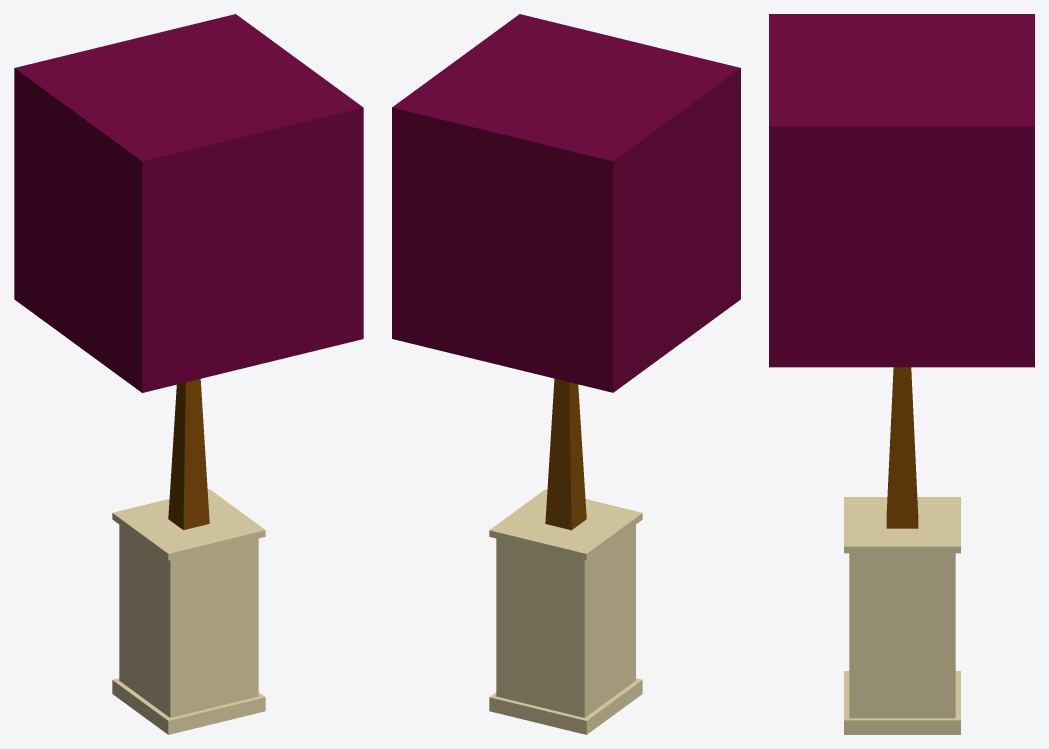
The model's file is Tree04.fbx.
3 renders of one model, left to right at view 1: azimuth 30°, elevation 25°; view 2: azimuth 150°, elevation 25°; view 3: azimuth 270°, elevation 25°, orthographic. The views are drawn at different scales.
Visible parts, largest first — view 1: hp_tree04_leaves2, hp_tree04_base; view 2: hp_tree04_leaves2, hp_tree04_base; view 3: hp_tree04_leaves2, hp_tree04_base.
Part boxes in pixels (<box>): hp_tree04_leaves2: <box>14,14,363,530</box>; hp_tree04_base: <box>112,489,265,734</box>; hp_tree04_leaves2: <box>392,14,740,530</box>; hp_tree04_base: <box>489,489,642,734</box>; hp_tree04_leaves2: <box>769,14,1034,528</box>; hp_tree04_base: <box>844,497,960,734</box>.
Bounding box in the file's own units: 100 × 266 × 100.
